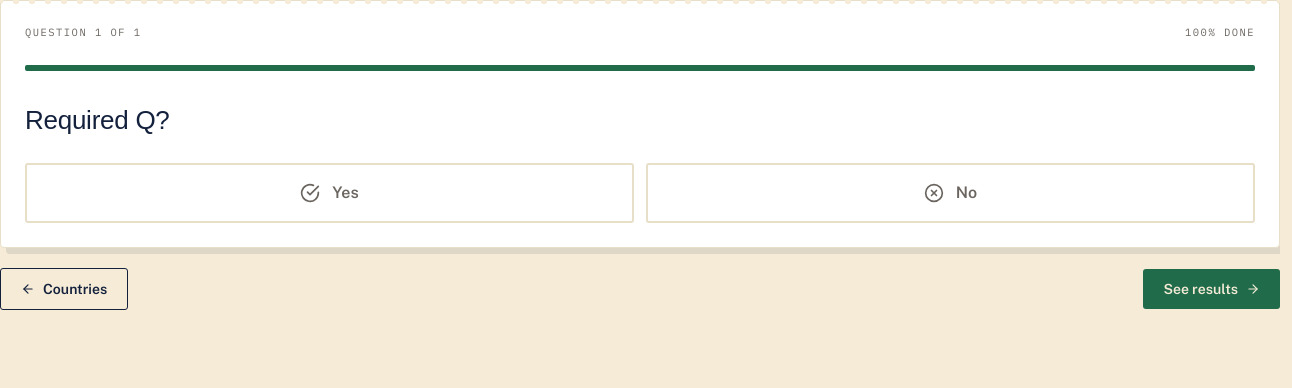
Test case: CountryChecker — Phase 5B: required field validation › shows inline error when required question is skipped
The image size is (1292, 388).
Click Next without answering
What coordinates should you click on to do the following:
click the button "See results"
I would click on:
 (1212, 288)
Its box is x1=1143 y1=268 x2=1280 y2=308.
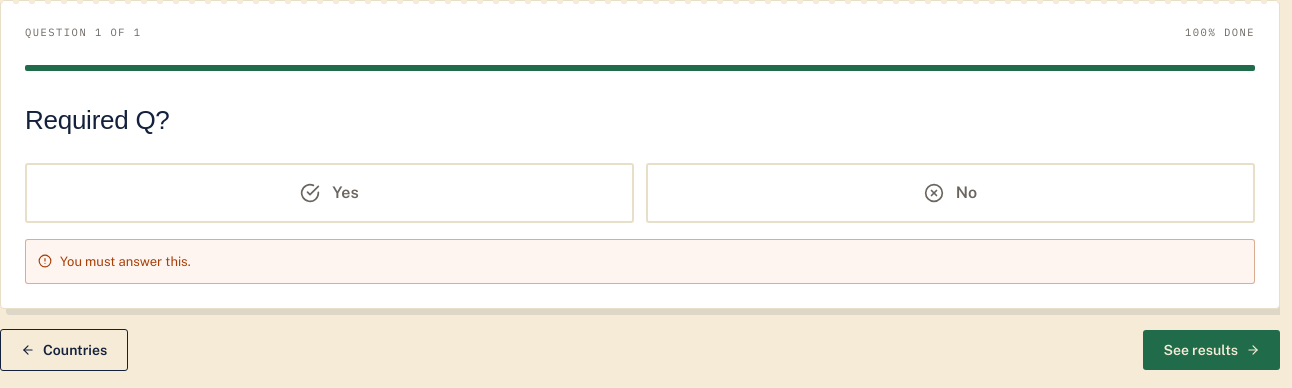
Result: the text "You must answer this." is shown at x1=60 y1=252 x2=191 y2=271
